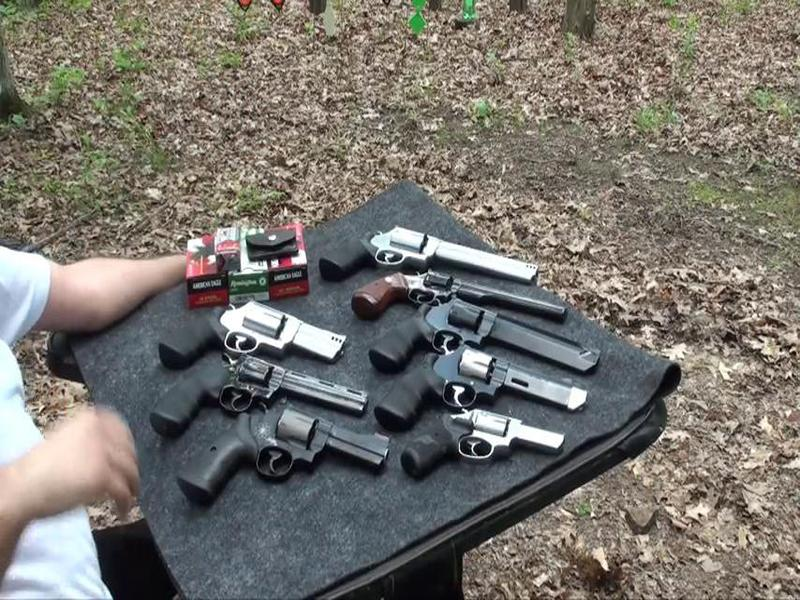Revolver: (373, 295, 603, 385)
